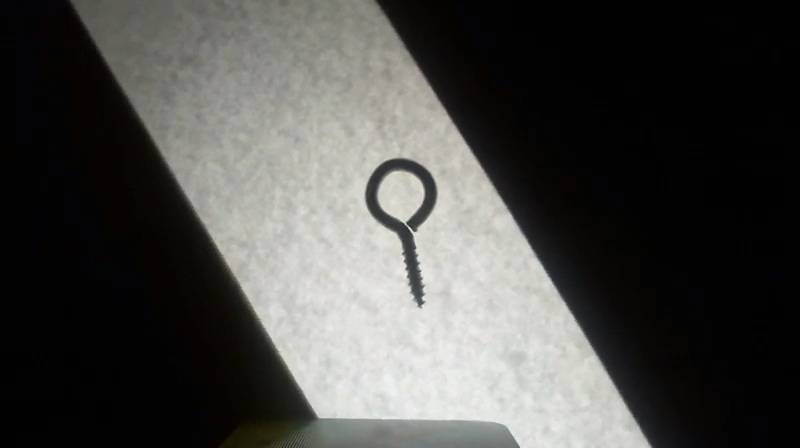O001: (360, 156, 442, 311)
